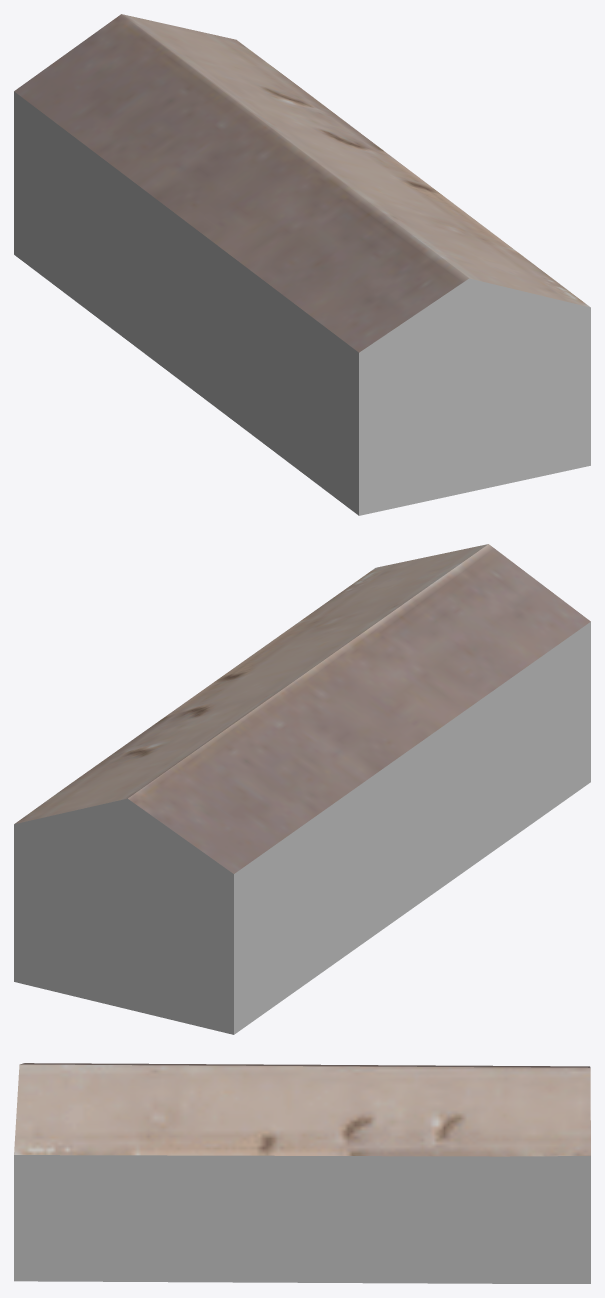
The model's file is DEBW_0010007Tx5R.gltf.
3 renders of one model, top to bottom at view 1: azimuth 30°, elevation 25°; view 2: azimuth 150°, elevation 25°; view 3: azimuth 270°, elevation 25°, orthographic. The views are drawn at different scales.
Parts seen in each view (by area): view 1: Z_UP; view 2: Z_UP; view 3: Z_UP.
Part boxes in pixels (x1=…): Z_UP: x1=14, y1=14, x2=590, y2=515; Z_UP: x1=14, y1=544, x2=590, y2=1034; Z_UP: x1=14, y1=1063, x2=590, y2=1283.
Size of the model in its own units: 11.5 by 10.15 by 31.02.
2 materials, 1 textured.
